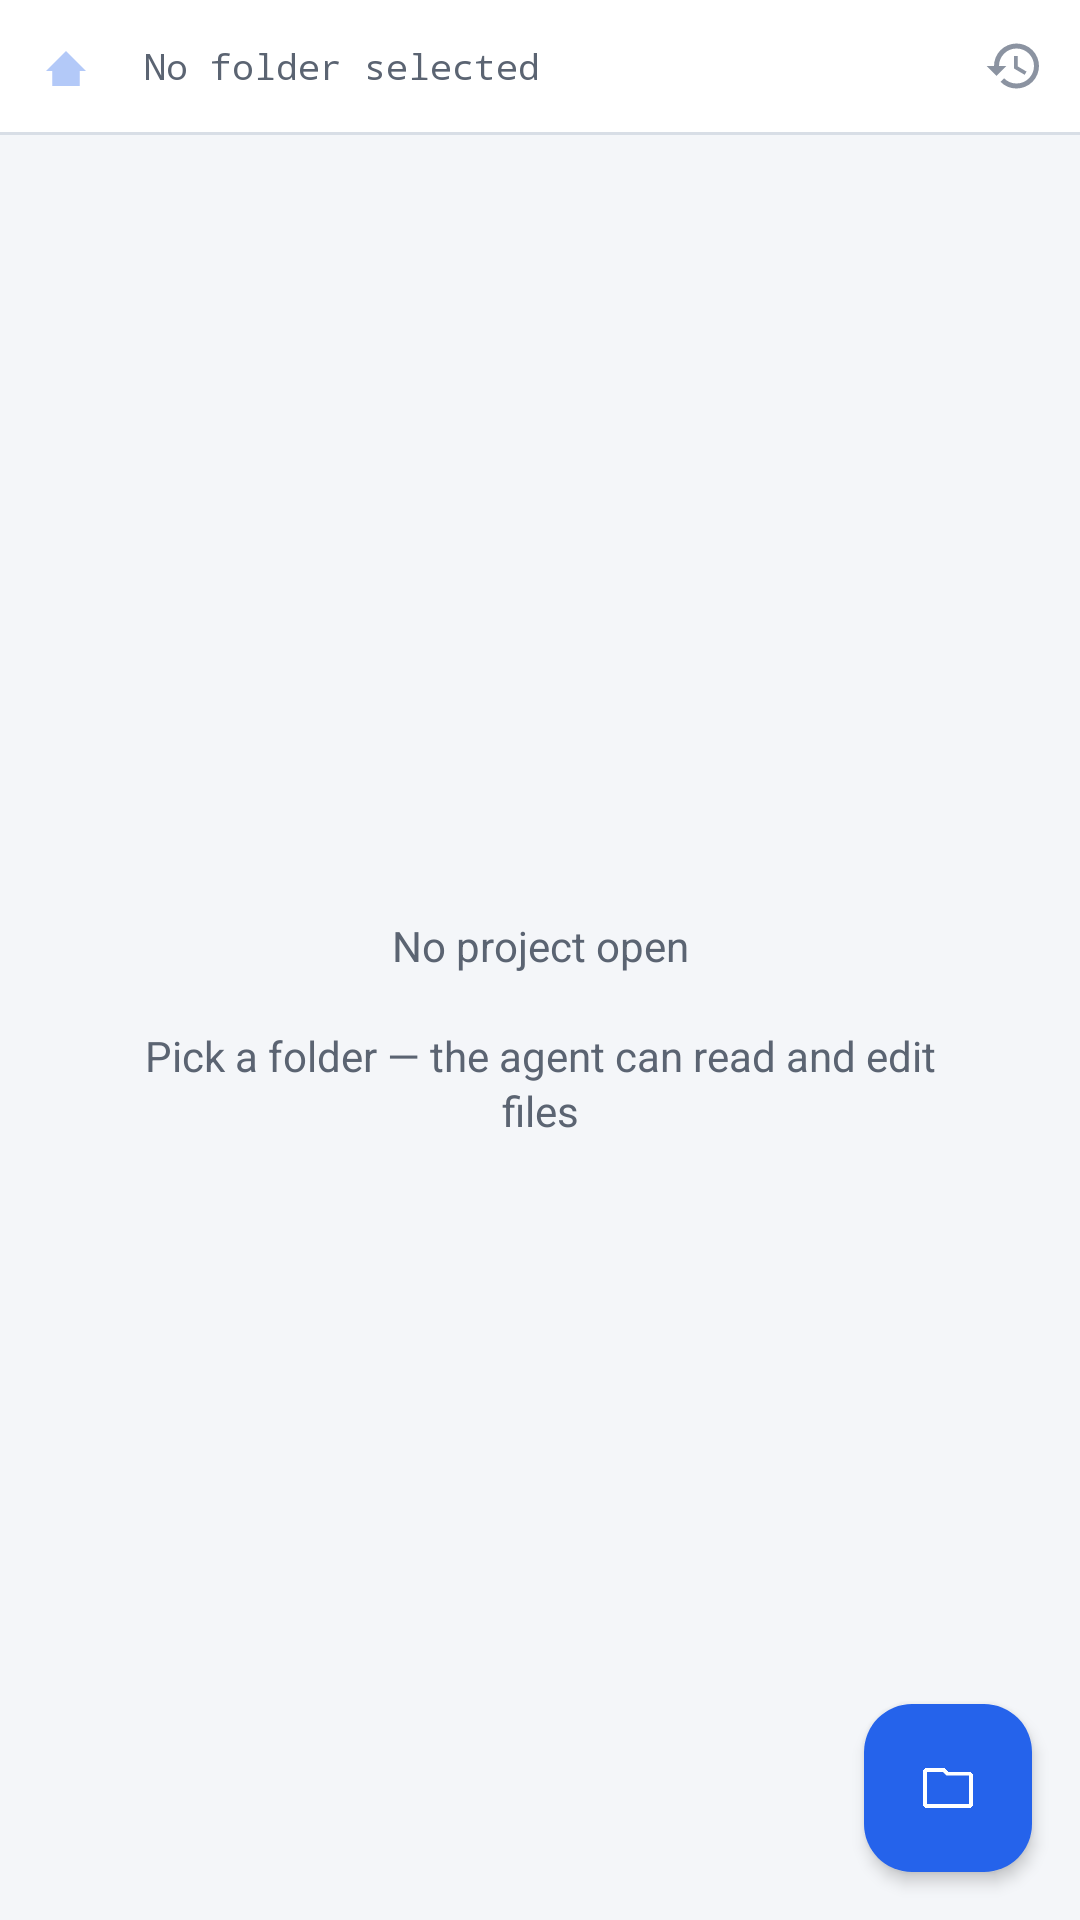

Icon bounding boxes for this 1080px×1920px phone screenshot, format [x1,y1,x2,y2]:
Open folder: [864,1704,1032,1872]
Recent: [987,43,1039,89]
Up: [46,51,86,86]
